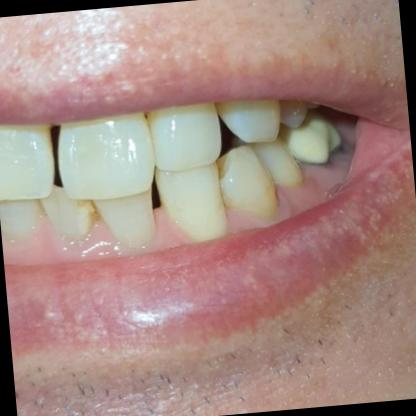Gap: (31, 118, 83, 188), (132, 167, 188, 229)
